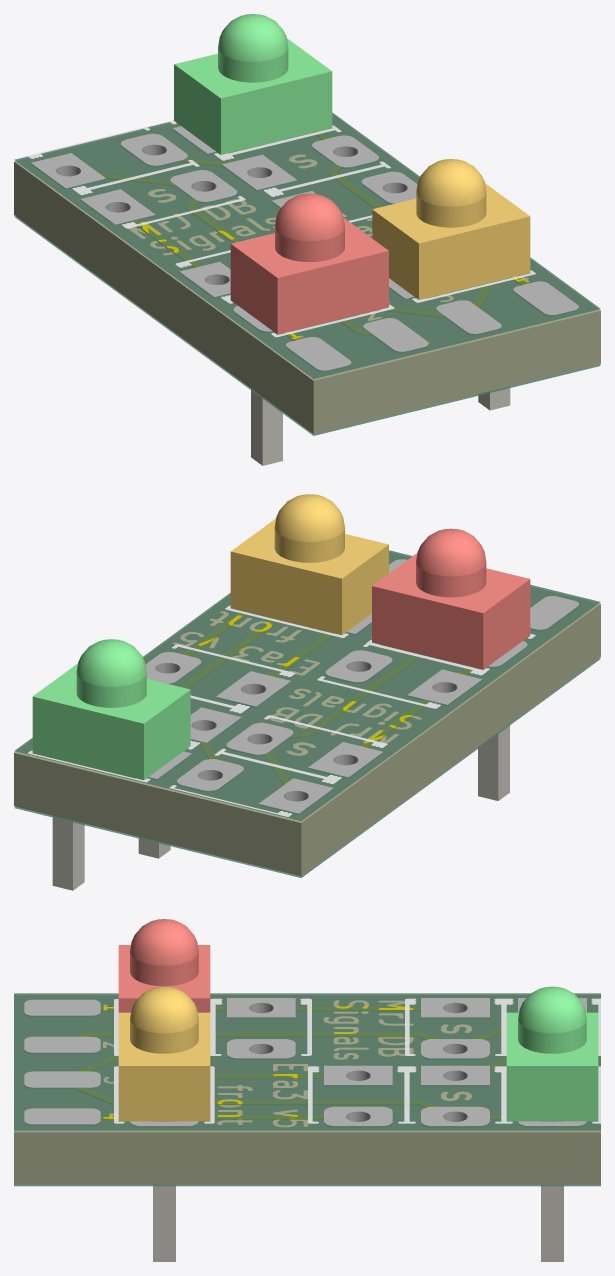
Rendered from MrJ-DB-Era3-prod-entry.glb.
The picture shows the model from 3 angles, top to bottom: view 1: azimuth 30°, elevation 25°; view 2: azimuth 150°, elevation 25°; view 3: azimuth 270°, elevation 25°; orthographic projection. The views are drawn at different scales.
Parts seen in each view (by area): view 1: =>[0:1:1:13], =>[0:1:1:11], =>[0:1:1:5], =>[0:1:1:9], =>[0:1:1:3], =>[0:1:1:7], =>[0:1:1:10], =>[0:1:1:8], =>[0:1:1:12]; view 2: =>[0:1:1:13], =>[0:1:1:11], =>[0:1:1:7], =>[0:1:1:5], =>[0:1:1:3], =>[0:1:1:9], =>[0:1:1:8], =>[0:1:1:10], =>[0:1:1:12]; view 3: =>[0:1:1:13], =>[0:1:1:11], =>[0:1:1:9], =>[0:1:1:3], =>[0:1:1:7], =>[0:1:1:5], =>[0:1:1:8], =>[0:1:1:10], =>[0:1:1:12].
Part boxes in pixels (x1,y1,x2,y2): =>[0:1:1:13]: (14,115,600,433); =>[0:1:1:11]: (14,112,600,378); =>[0:1:1:5]: (230,193,388,465); =>[0:1:1:9]: (31,126,578,371); =>[0:1:1:3]: (372,159,530,410); =>[0:1:1:7]: (174,14,332,154); =>[0:1:1:10]: (27,120,535,337); =>[0:1:1:8]: (98,133,529,340); =>[0:1:1:12]: (14,216,600,435); =>[0:1:1:13]: (14,552,600,876); =>[0:1:1:11]: (14,550,600,821); =>[0:1:1:7]: (32,639,190,890); =>[0:1:1:5]: (372,528,530,800); =>[0:1:1:3]: (230,494,388,634); =>[0:1:1:9]: (145,559,578,814); =>[0:1:1:8]: (180,613,530,784); =>[0:1:1:10]: (27,605,535,816); =>[0:1:1:12]: (14,658,600,877); =>[0:1:1:13]: (14,995,600,1184); =>[0:1:1:11]: (14,993,600,1130); =>[0:1:1:9]: (24,998,586,1126); =>[0:1:1:3]: (118,986,210,1261); =>[0:1:1:7]: (506,986,598,1261); =>[0:1:1:5]: (118,919,210,1012); =>[0:1:1:8]: (75,1006,505,1119); =>[0:1:1:10]: (114,998,600,1123); =>[0:1:1:12]: (14,1184,600,1186).
Size of the model in its own units: 0.00851 by 0.0071 by 0.0154.
